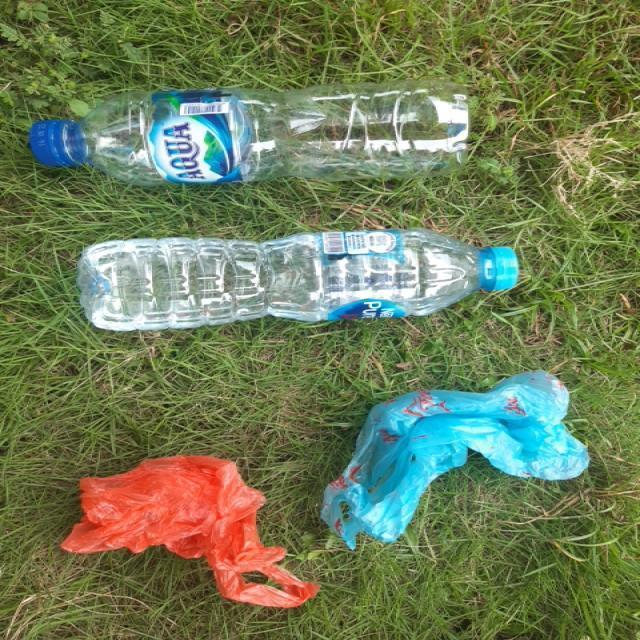PET Bottle: (65, 225, 536, 332), (25, 92, 473, 186)
